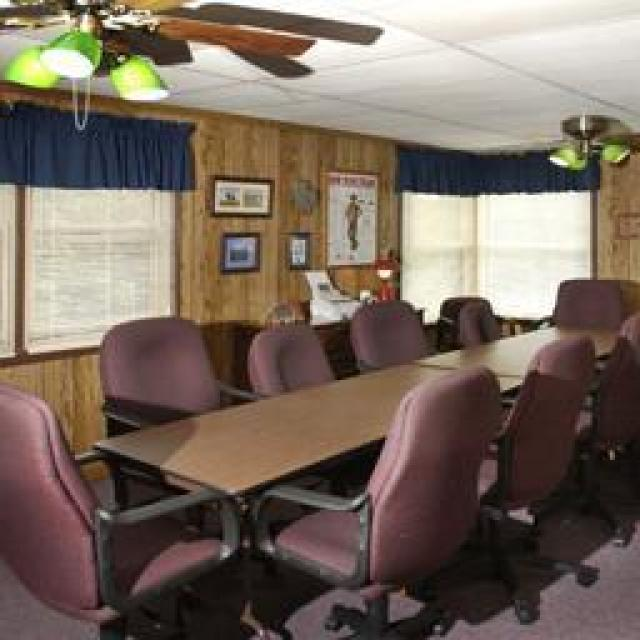indoor-plant: (0, 0, 638, 638)
light: (108, 52, 170, 100)
